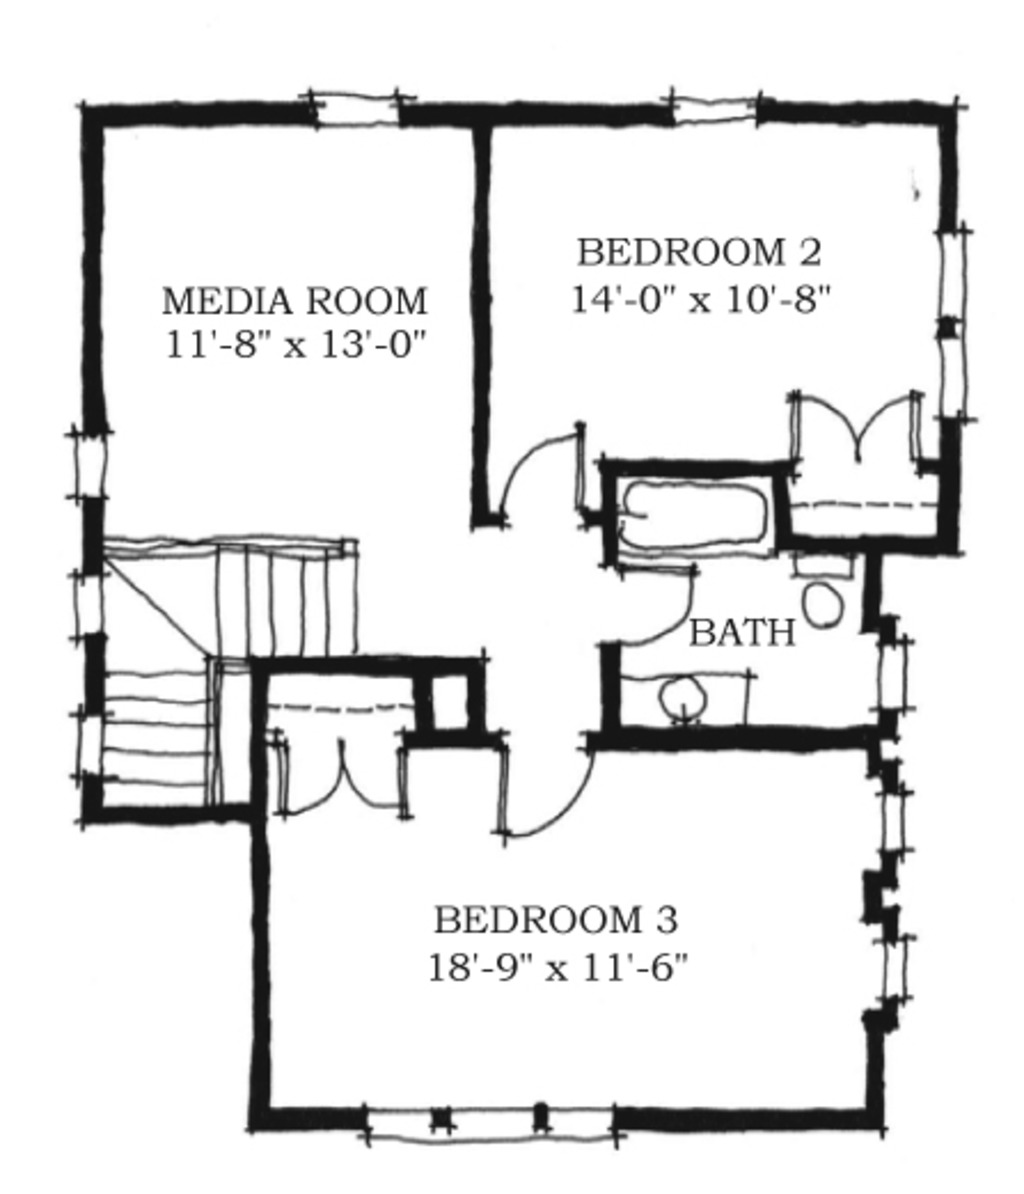door: (783, 384, 921, 477), (268, 734, 406, 825), (495, 741, 604, 832), (499, 424, 591, 531)
